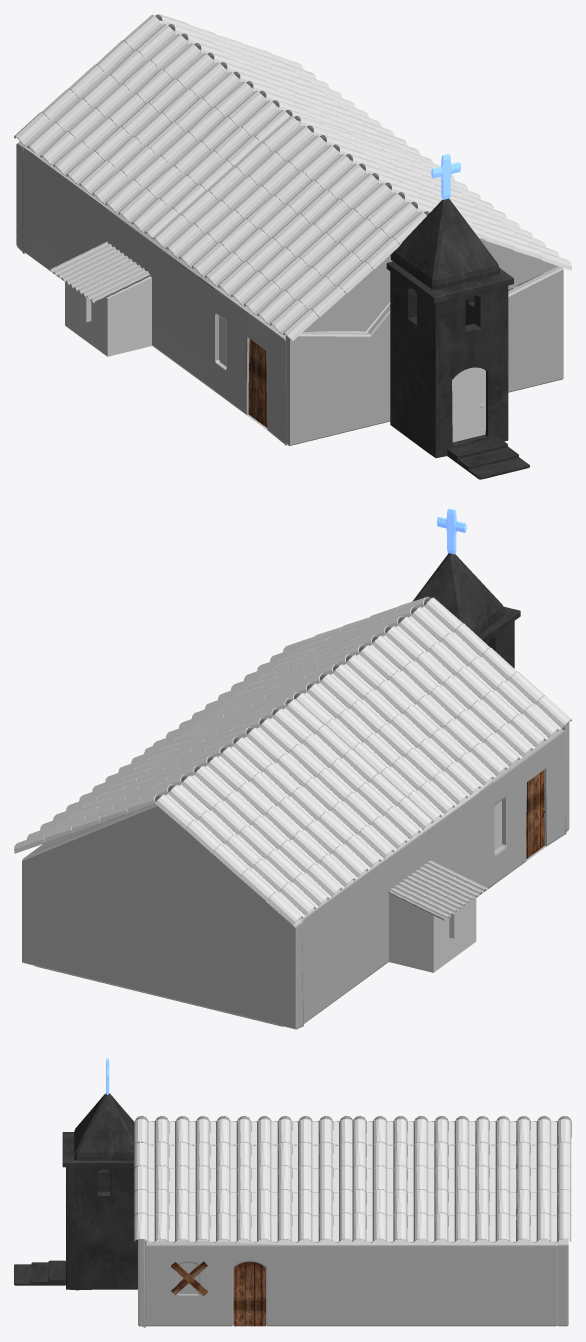
Rendered from capela02.fbx.
3 views of the same model, one above another, from view 1: azimuth 30°, elevation 25°; view 2: azimuth 150°, elevation 25°; view 3: azimuth 270°, elevation 25° (orthographic). The views are drawn at different scales.
Visible parts, largest first — view 1: Telha.000, Estrutura, Torre, Telha.001, Torre.001, Plane.004, Cube, Telha.002, Porta.001, Escada, Porta2, Cruz; view 2: Telha.000, Estrutura, Telha.001, Cube, Torre.001, Telha.002, Porta2, Torre, Plane.004, Cruz; view 3: Telha.001, Estrutura, Torre, Plane.004, Torre.001, Porta3, Escada, Telha.000, MadeiraX.001.
Boxes of the visible parts, x1=… form: Telha.000: x1=14, y1=14, x2=426, y2=341; Estrutura: x1=16, y1=141, x2=563, y2=445; Torre: x1=386, y1=254, x2=513, y2=458; Telha.001: x1=155, y1=14, x2=571, y2=270; Torre.001: x1=390, y1=198, x2=499, y2=289; Plane.004: x1=24, y1=30, x2=557, y2=332; Cube: x1=65, y1=276, x2=151, y2=356; Telha.002: x1=50, y1=241, x2=151, y2=303; Porta.001: x1=452, y1=367, x2=485, y2=442; Escada: x1=447, y1=437, x2=529, y2=479; Porta2: x1=248, y1=339, x2=267, y2=427; Cruz: x1=431, y1=154, x2=460, y2=199; Telha.000: x1=155, y1=597, x2=571, y2=925; Estrutura: x1=22, y1=721, x2=569, y2=1029; Telha.001: x1=14, y1=596, x2=431, y2=853; Cube: x1=389, y1=894, x2=476, y2=972; Torre.001: x1=412, y1=553, x2=505, y2=635; Telha.002: x1=388, y1=858, x2=488, y2=920; Porta2: x1=526, y1=770, x2=544, y2=858; Torre: x1=478, y1=606, x2=520, y2=668; Plane.004: x1=28, y1=613, x2=535, y2=920; Cruz: x1=437, y1=508, x2=466, y2=554; Telha.001: x1=134, y1=1119, x2=571, y2=1242; Estrutura: x1=138, y1=1142, x2=568, y2=1327; Torre: x1=62, y1=1132, x2=137, y2=1290; Plane.004: x1=143, y1=1123, x2=558, y2=1244; Torre.001: x1=74, y1=1093, x2=142, y2=1160; Porta3: x1=233, y1=1262, x2=265, y2=1326; Escada: x1=14, y1=1260, x2=65, y2=1285; Telha.000: x1=135, y1=1115, x2=571, y2=1137; MadeiraX.001: x1=171, y1=1261, x2=207, y2=1295.
Bounding box in the file's own units: 1342 × 1041 × 2427.
